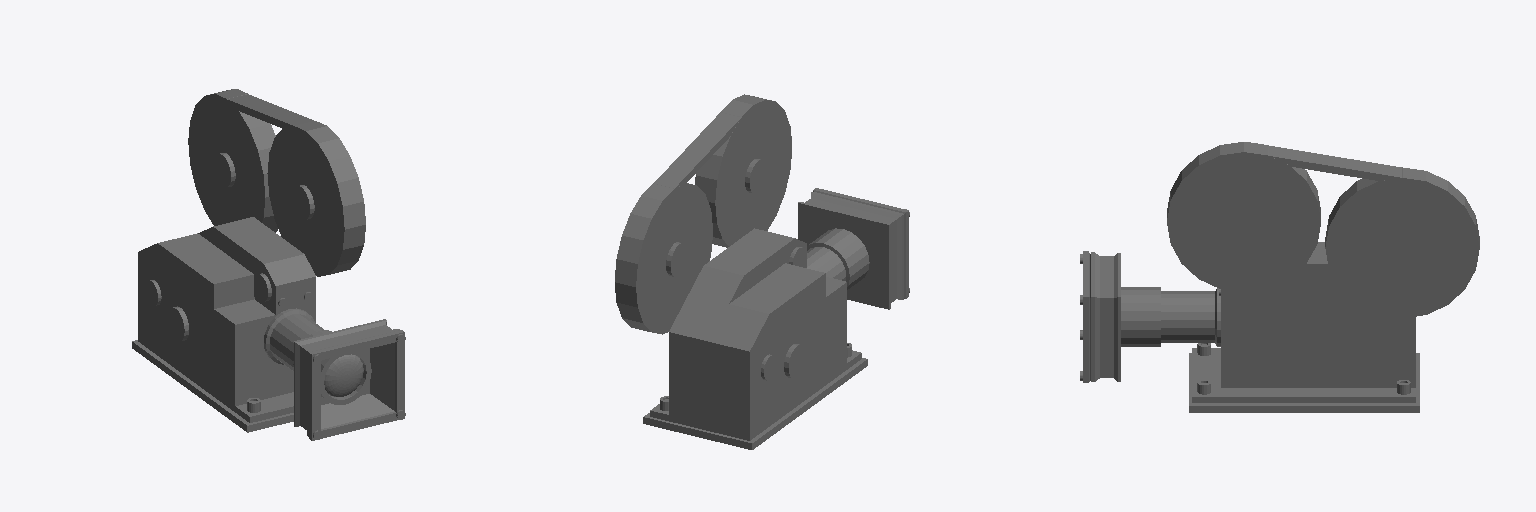
Rendered from demoCamera.obj.
3 renders of one model, left to right at view 1: azimuth 30°, elevation 25°; view 2: azimuth 150°, elevation 25°; view 3: azimuth 270°, elevation 25°, orthographic.
Parts seen in each view (by area): view 1: pCube6; view 2: pCube6; view 3: pCube6.
Boxes of the visible parts, x1,y1,x2,y2 form: pCube6: [132, 89, 405, 440]; pCube6: [615, 94, 909, 449]; pCube6: [1080, 142, 1479, 412].
Size of the model in its own units: 1.3 by 2.95 by 4.1.